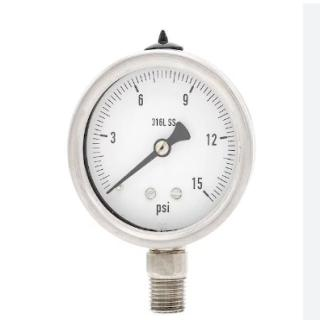gauge: (63, 41, 273, 275), (193, 180, 215, 203), (100, 178, 124, 199), (153, 138, 171, 158), (103, 186, 113, 196)
